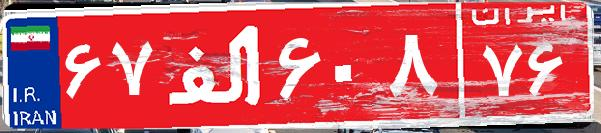0: (330, 28, 385, 110)
6: (273, 28, 330, 110), (57, 26, 110, 107), (525, 38, 570, 115)
7: (475, 38, 525, 113), (110, 28, 158, 105)
8: (385, 28, 445, 110)
الف: (158, 15, 273, 115)
